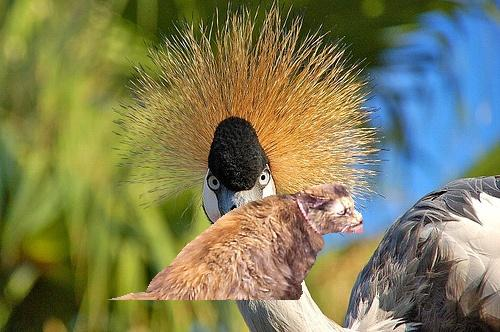tampered: (105, 184, 363, 300)
